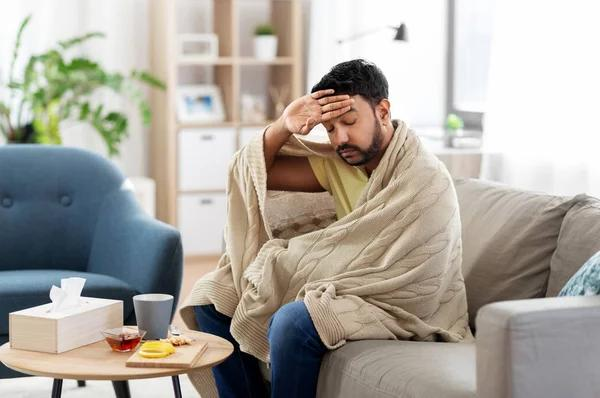blanket: (180, 116, 474, 398)
trousers: (190, 288, 328, 398)
